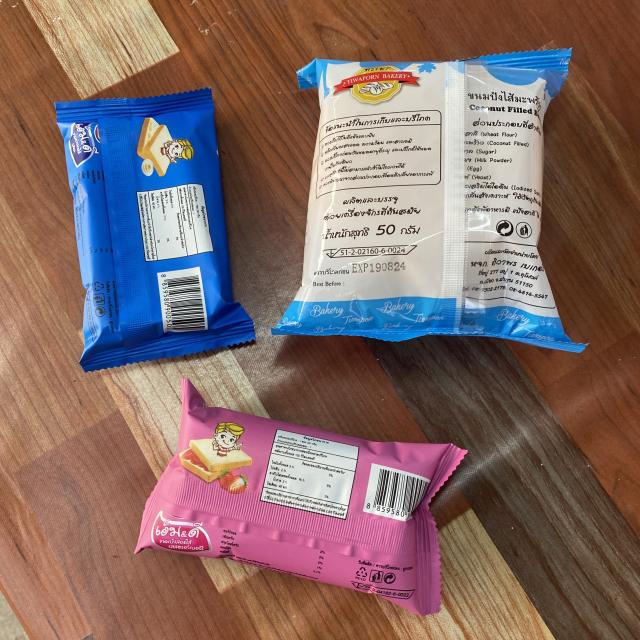plastik: (272, 49, 585, 352), (135, 380, 466, 615), (55, 89, 255, 371)
